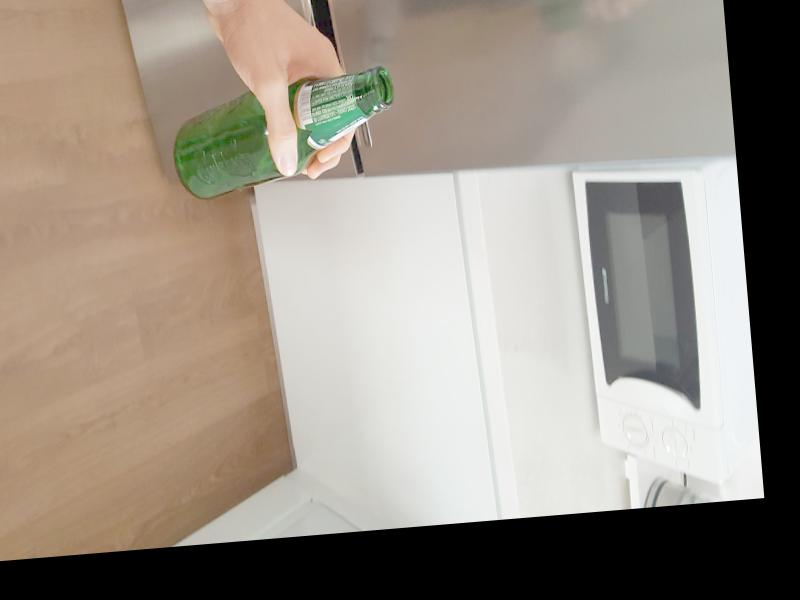Beer: (166, 65, 400, 199)
